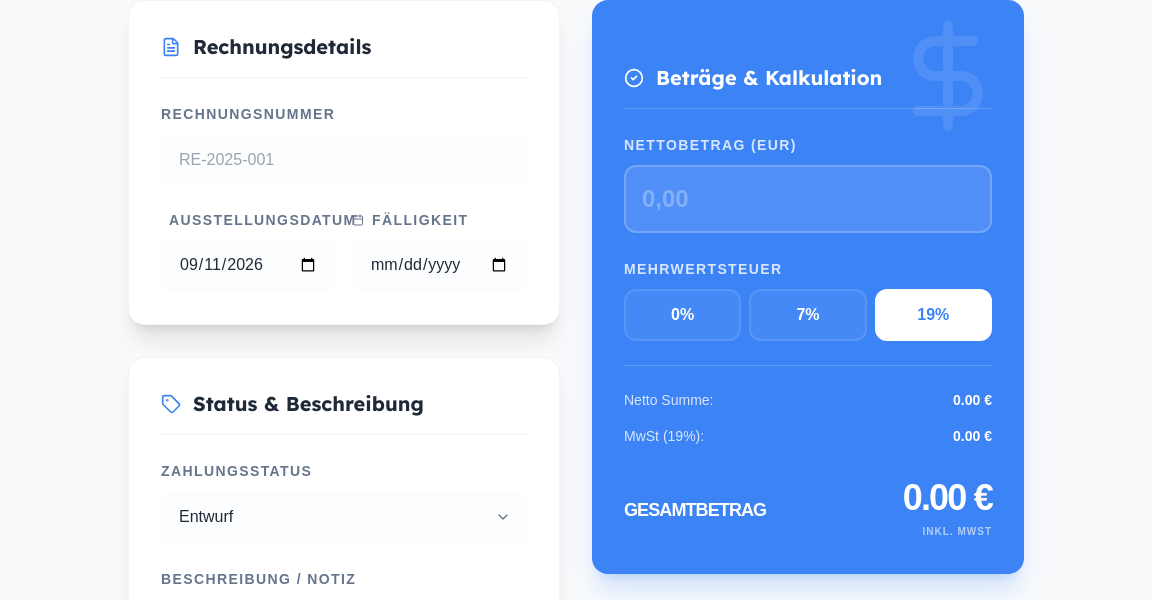
it: InvoiceForm › form submission › should update calculations when tax rate changes
# Set net amount
Type "100" into the number field labelled "Nettobetrag (EUR)".
click(808, 199); type("100")  # box x1=624 y1=165 x2=992 y2=233
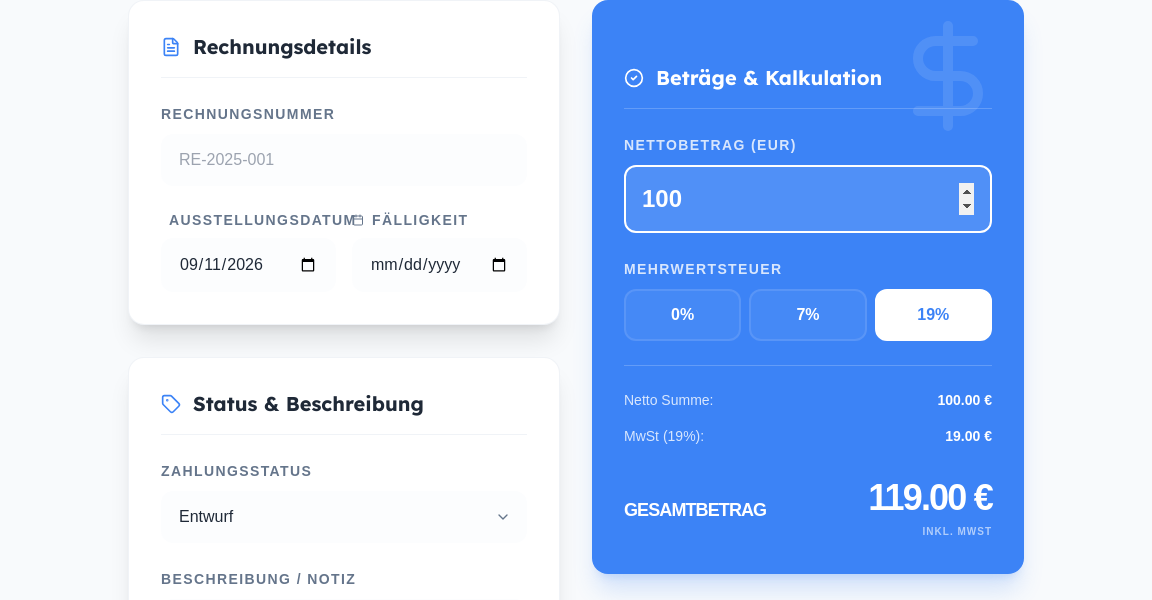
# Change tax rate to 7%
Click the button "7%".
click(808, 315)  # box x1=749 y1=289 x2=867 y2=341
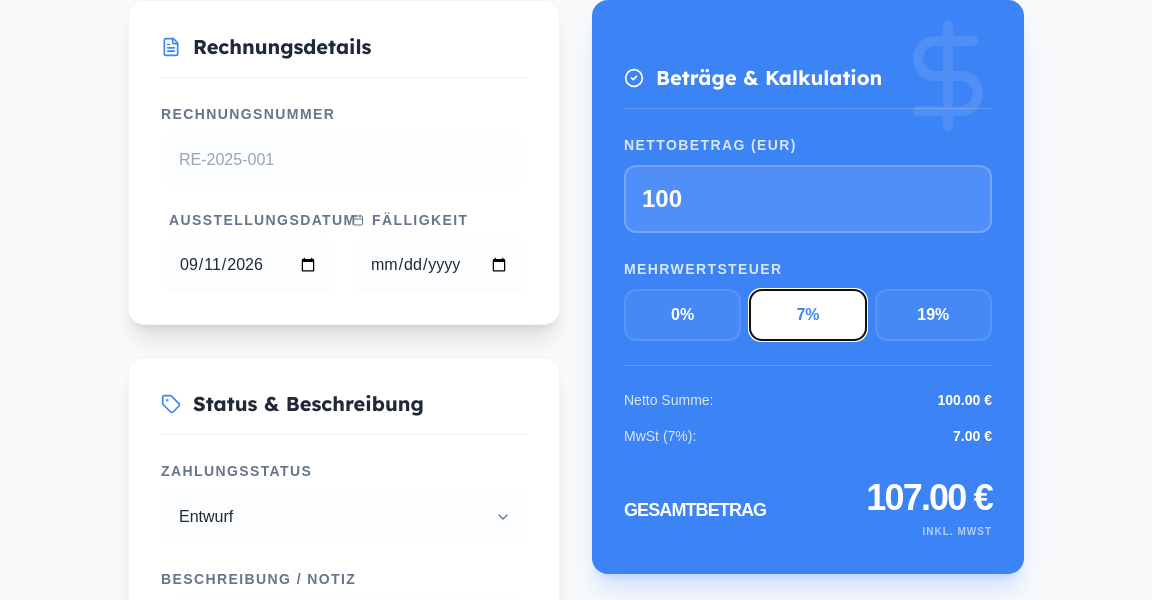
Result: the text "107.00 €" is shown at x1=866 y1=478 x2=992 y2=518
